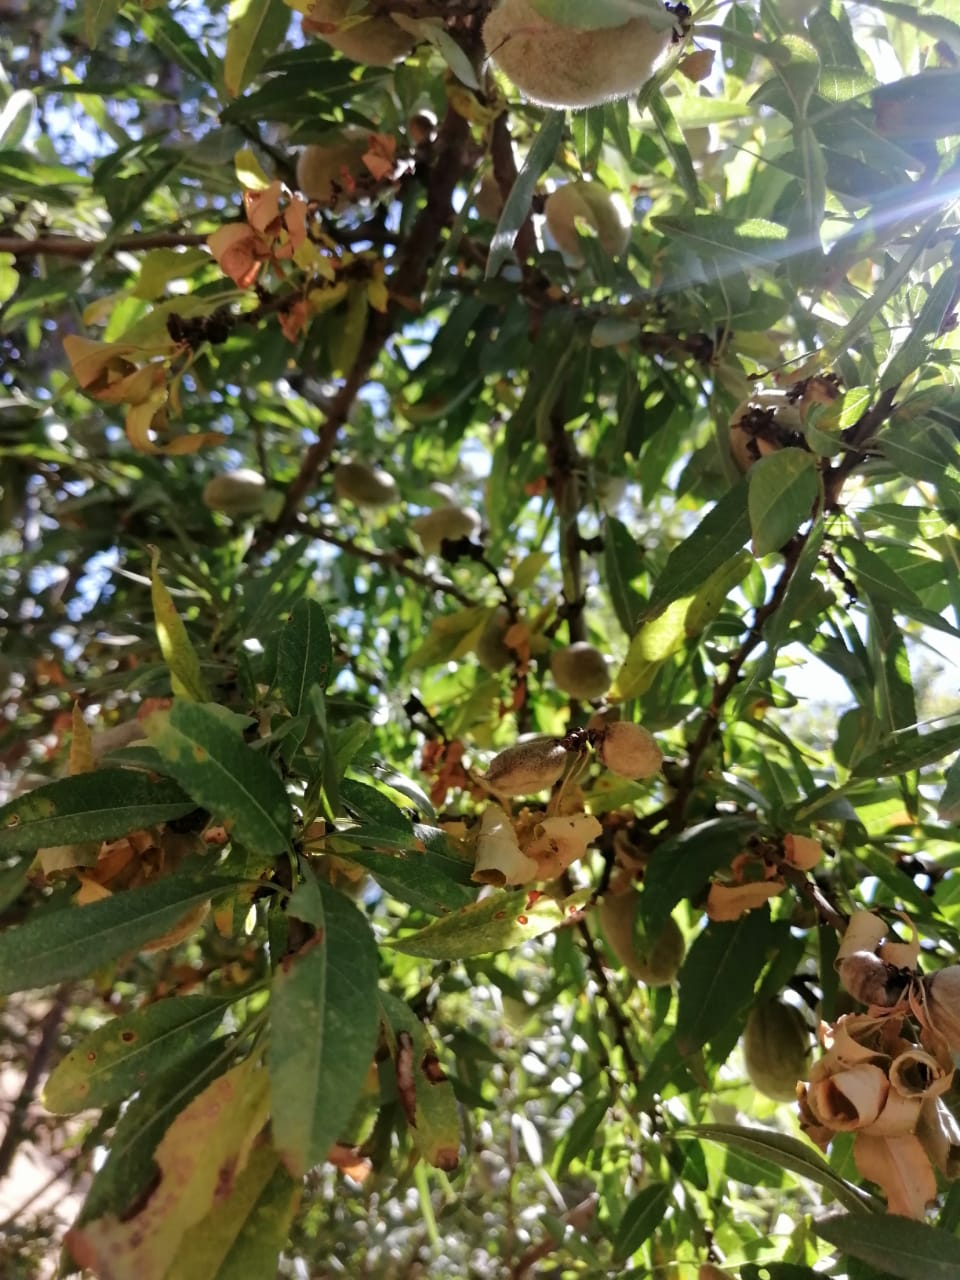chancre fusicocum: (742, 834, 960, 1218), (437, 798, 624, 891), (192, 181, 309, 295)
